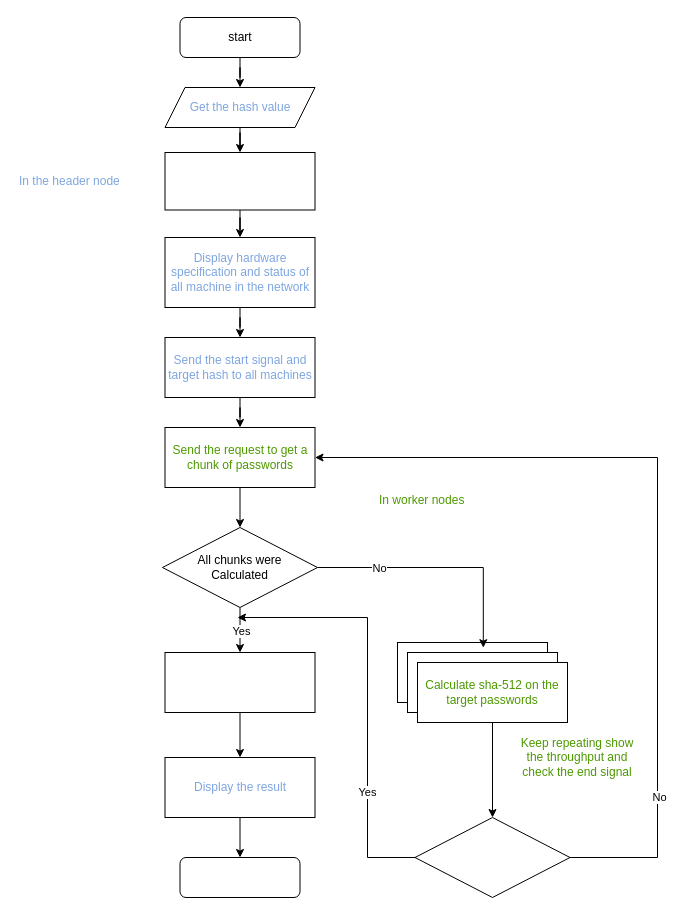
This 683x915 diagram has some shape labels left out. The box of each missing label's shape, as (x1, y1, x2, y2) in pixels:
Chunking all possible passwords 7 letters a-z: (164, 152, 315, 210)
End: (179, 856, 300, 898)
Found the password: (414, 816, 570, 898)
Send end signal to all machines: (164, 652, 315, 712)
